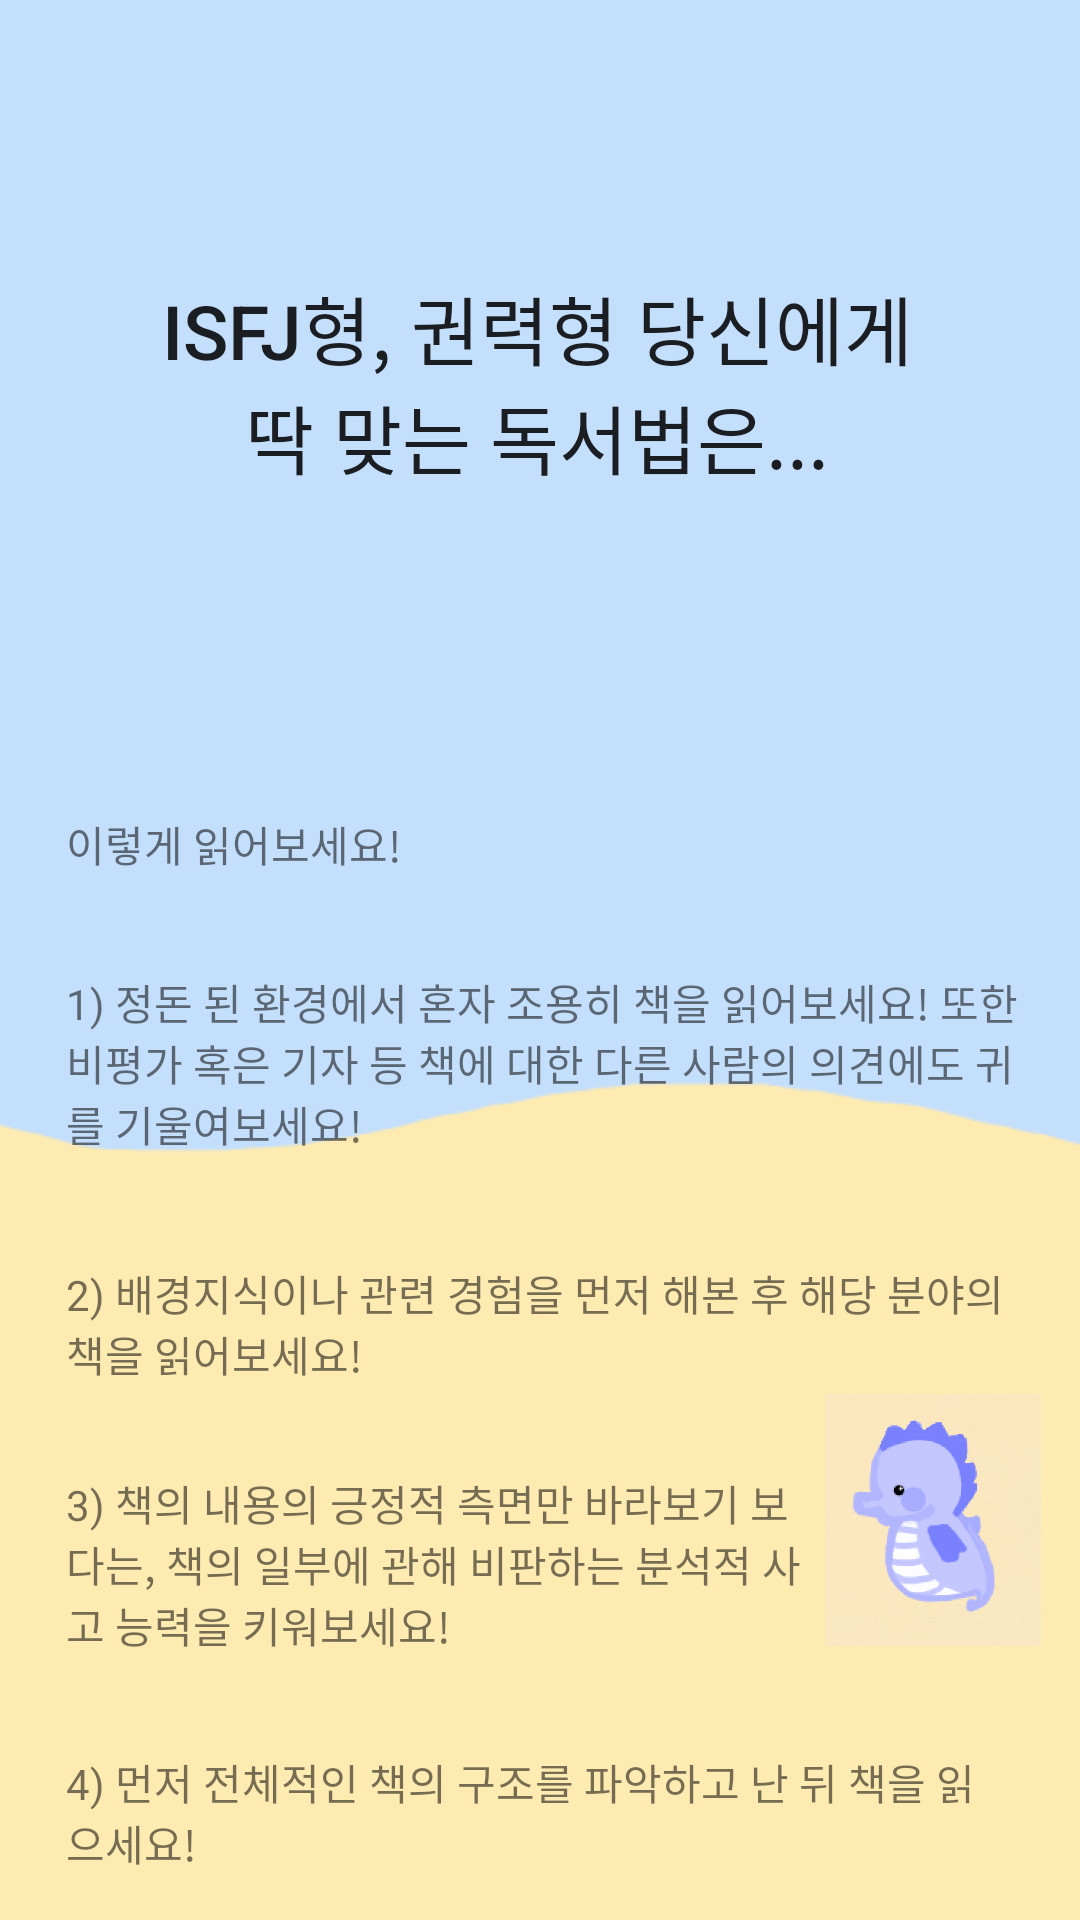

Icon click points for this 1080×1920 phone screenshot, format (x=x, y=y):
seahorse: (x=923, y=1516)
